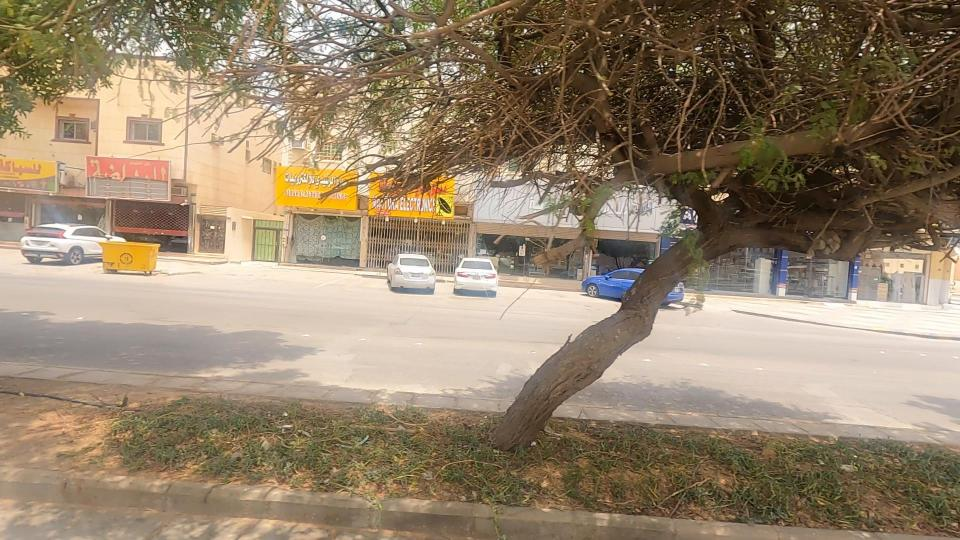BAD_BILLBOARD: (408, 131, 723, 266), (43, 130, 215, 227)
